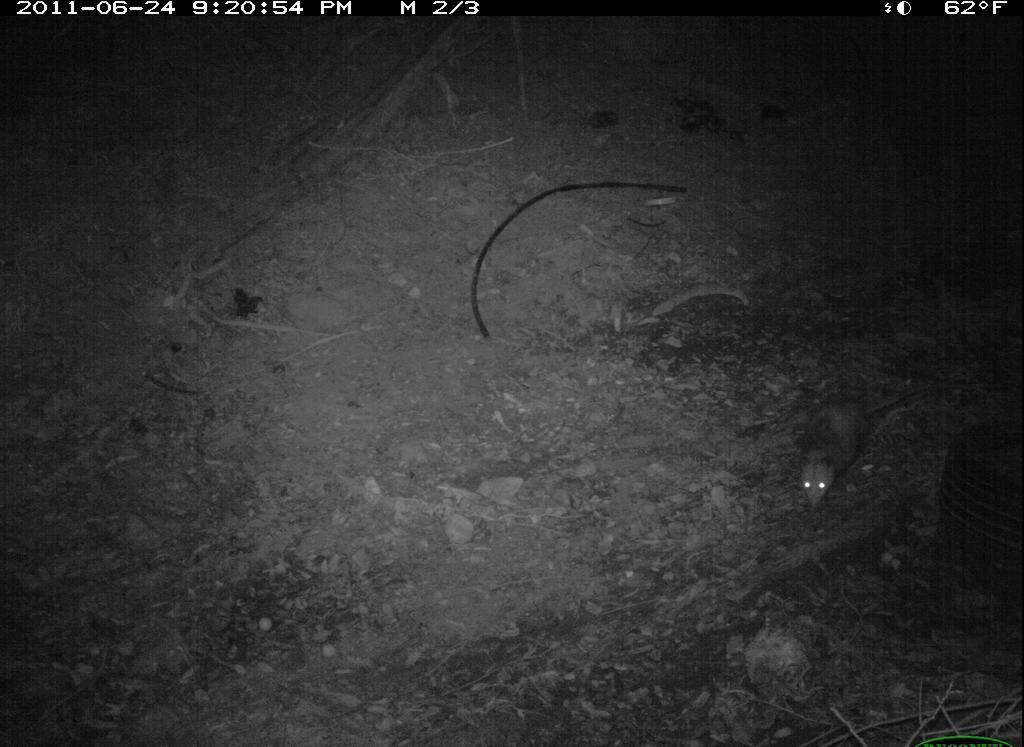opossum: (776, 361, 907, 543)
